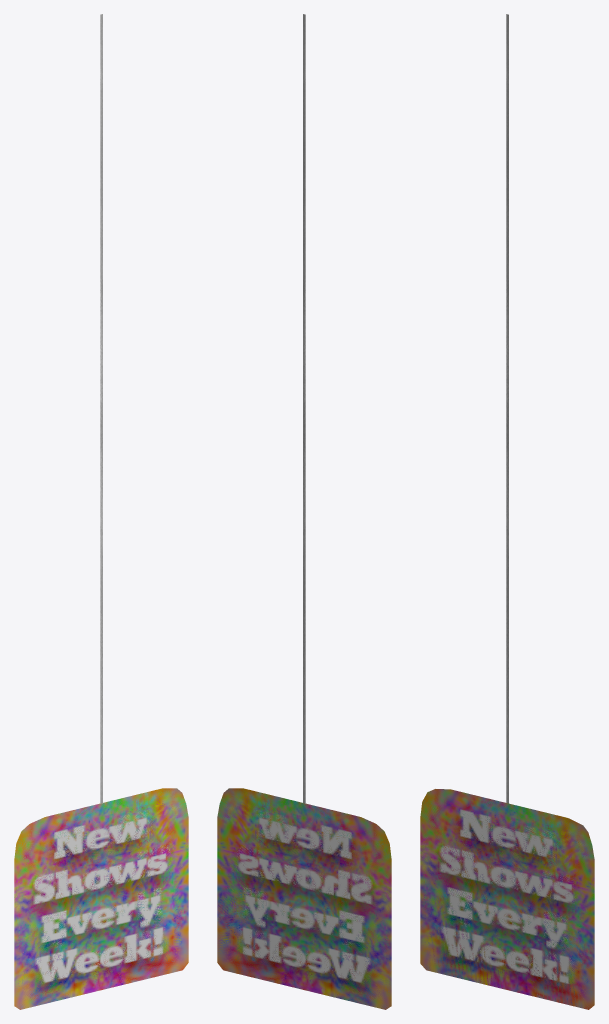
File: SwingSign1.fbx
The picture shows the model from 3 angles, left to right: view 1: azimuth 30°, elevation 25°; view 2: azimuth 150°, elevation 25°; view 3: azimuth 330°, elevation 25°; orthographic projection.
Visible parts, largest first — view 1: Plane.011; view 2: Plane.011; view 3: Plane.011.
Boxes of the visible parts, x1,y1,x2,y2 form: Plane.011: (14, 14, 188, 1009); Plane.011: (217, 14, 391, 1009); Plane.011: (420, 14, 594, 1009).
Size of the model in its own units: 63.37 by 338 by 5.44e-05.
